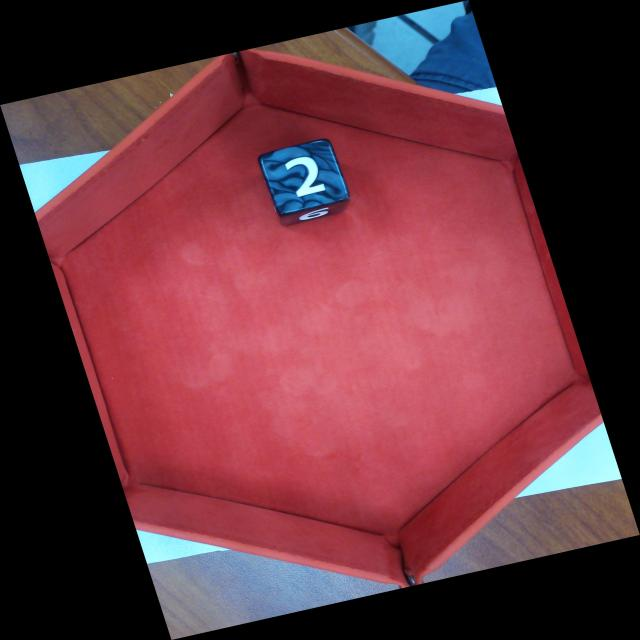dice: (257, 138, 353, 218)
